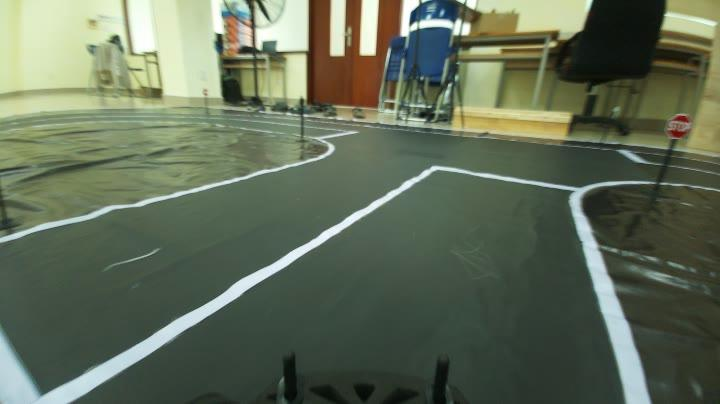stop: (664, 111, 696, 142)
